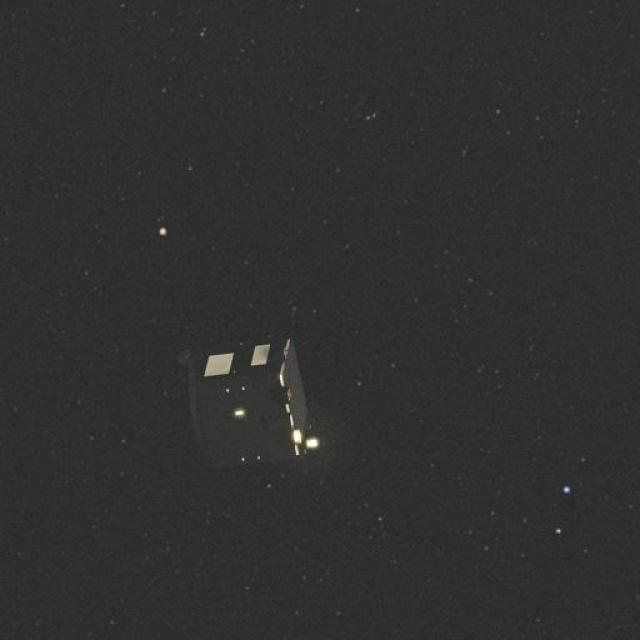proba_3_ocs: (171, 312, 333, 481)
